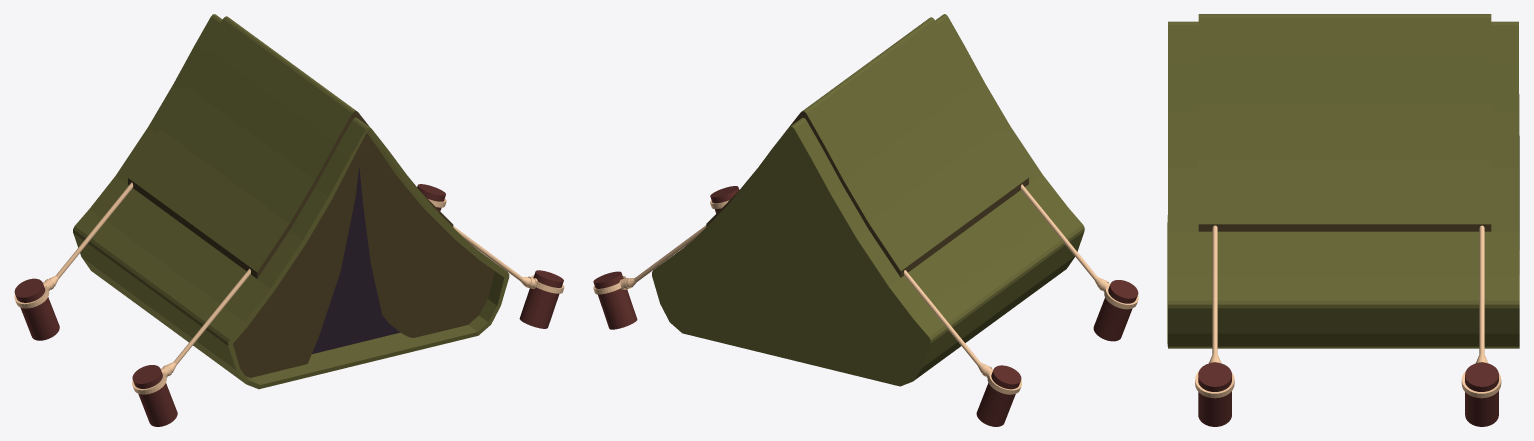
The model's file is Cabana PRONTO.fbx.
3 renders of one model, left to right at view 1: azimuth 30°, elevation 25°; view 2: azimuth 150°, elevation 25°; view 3: azimuth 270°, elevation 25°, orthographic. The views are drawn at different scales.
Visible parts, largest first — view 1: Cabana; view 2: Cabana; view 3: Cabana.
Part boxes in pixels (box(x1,y1,x2,y2)): Cabana: box(14, 14, 564, 426); Cabana: box(593, 14, 1138, 426); Cabana: box(1167, 14, 1519, 426).
Bounding box in the file's own units: 266 × 161 × 167.
